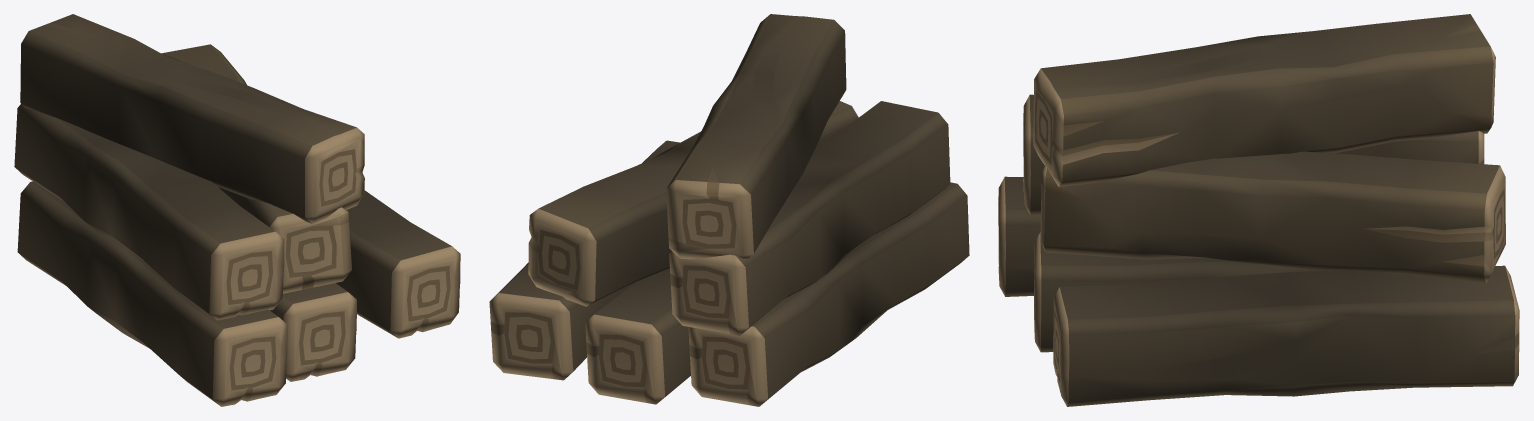
File: orc_wood_pile_big.fbx
The picture shows the model from 3 angles, left to right: view 1: azimuth 30°, elevation 25°; view 2: azimuth 150°, elevation 25°; view 3: azimuth 270°, elevation 25°; orthographic projection. The views are drawn at different scales.
Parts seen in each view (by area): view 1: orc_wood_pile_big; view 2: orc_wood_pile_big; view 3: orc_wood_pile_big.
Boxes of the visible parts, bbox=[...] form: orc_wood_pile_big: bbox=[14, 14, 460, 406]; orc_wood_pile_big: bbox=[489, 14, 969, 406]; orc_wood_pile_big: bbox=[998, 14, 1519, 406].
Size of the model in its own units: 249 by 202 by 356.
